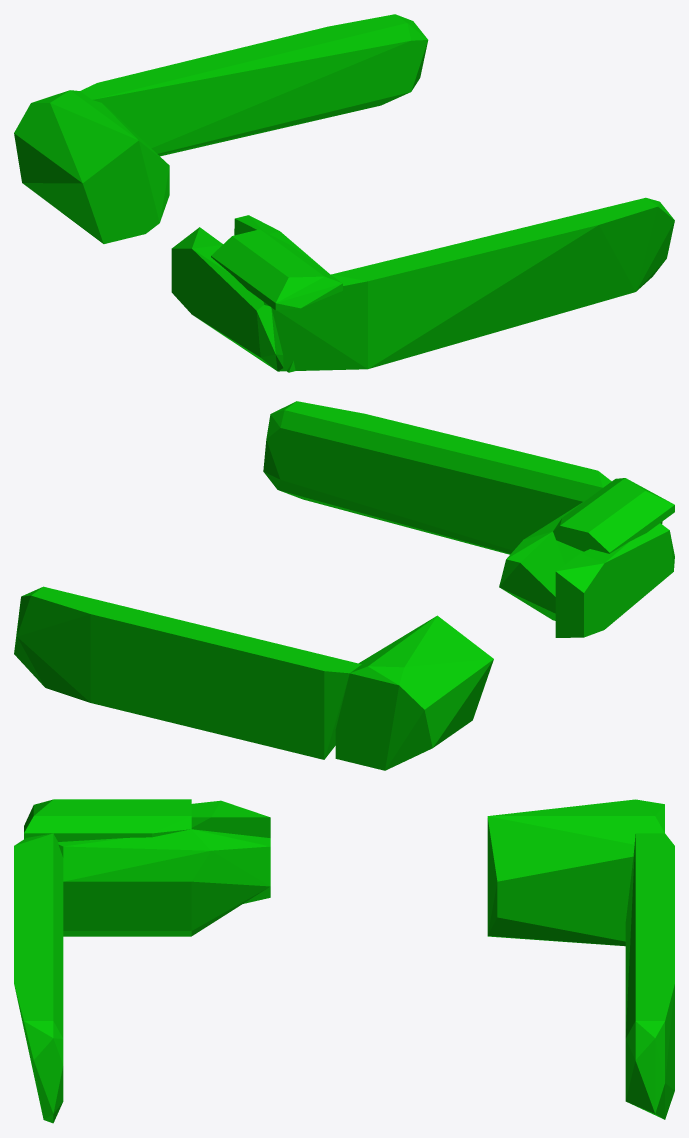
The model's file is UCX_Door1Knob.fbx.
The picture shows the model from 3 angles, top to bottom: view 1: azimuth 30°, elevation 25°; view 2: azimuth 150°, elevation 25°; view 3: azimuth 270°, elevation 25°; orthographic projection. The views are drawn at different scales.
Visible parts, largest first — view 1: UCX_Door1Knob; view 2: UCX_Door1Knob; view 3: UCX_Door1Knob.
Boxes of the visible parts, box(x1,y1,x2,y2) form: UCX_Door1Knob: box(14, 14, 674, 372); UCX_Door1Knob: box(14, 401, 674, 770); UCX_Door1Knob: box(14, 799, 674, 1123).
Bounding box in the file's own units: 0.1226 × 0.0275 × 0.1416.
